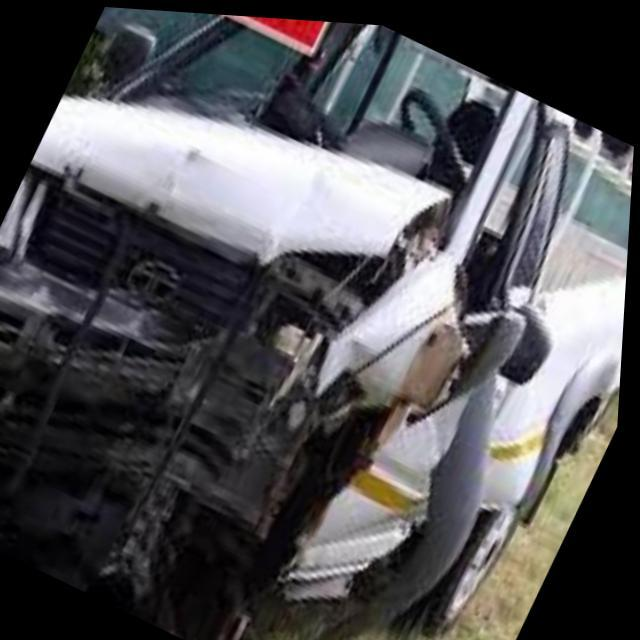crash: (0, 88, 555, 640)
